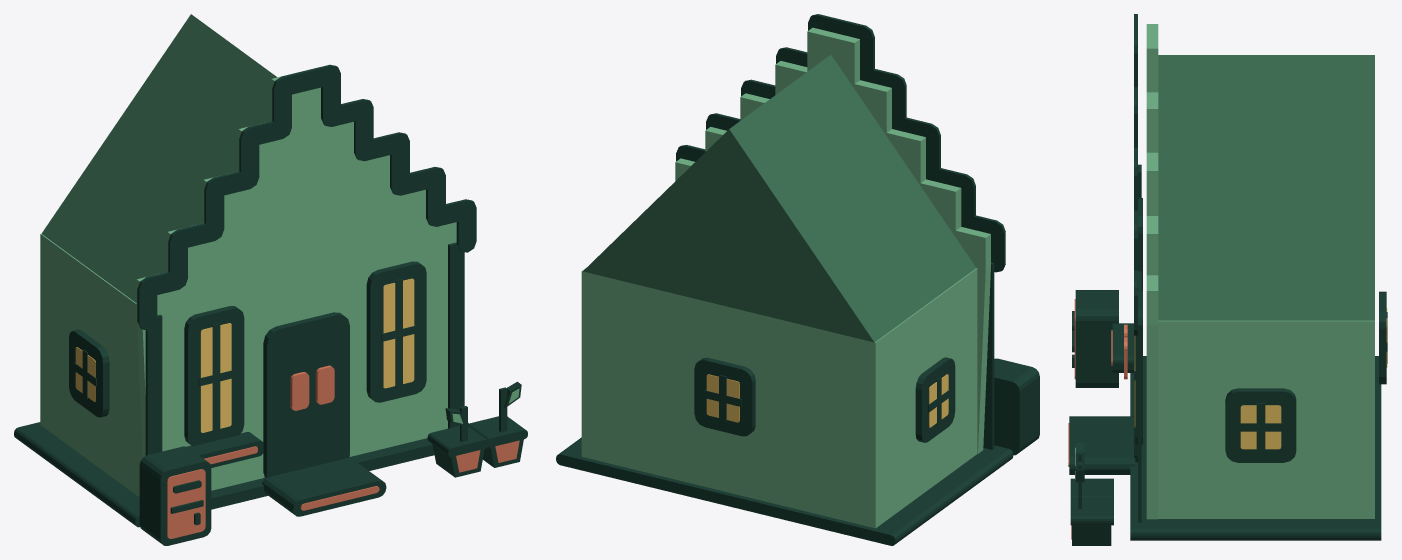
3 views of the same model, side by side, from view 1: azimuth 30°, elevation 25°; view 2: azimuth 150°, elevation 25°; view 3: azimuth 270°, elevation 25° (orthographic). The views are drawn at different scales.
Parts seen in each view (by area): view 1: Rent Free house; view 2: Rent Free house; view 3: Rent Free house.
Boxes of the visible parts, <box> form: Rent Free house: <box>14,14,527,545</box>; Rent Free house: <box>556,14,1039,545</box>; Rent Free house: <box>1068,14,1387,545</box>.
Bounding box in the file's own units: 0.9829 × 1.06 × 0.72.
